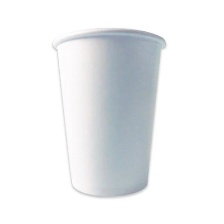paper_cup: (44, 20, 170, 202)
